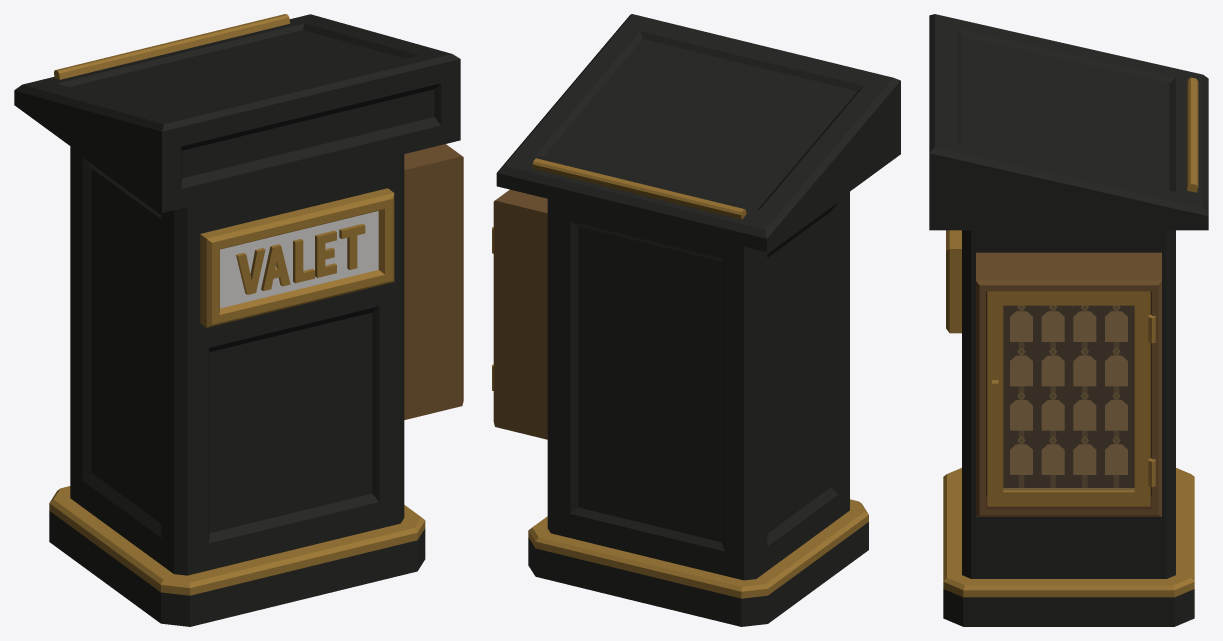
File: valet-key-podium-508ae6.glb
The picture shows the model from 3 angles, left to right: view 1: azimuth 30°, elevation 25°; view 2: azimuth 150°, elevation 25°; view 3: azimuth 270°, elevation 25°; orthographic projection. The views are drawn at different scales.
Parts seen in each view (by area): view 1: podium; view 2: podium; view 3: podium, cabinet-door-glass, cabinet-door-frame, key-tag-mesh.
Part boxes in pixels (x1=…): podium: x1=14, y1=14, x2=463, y2=626; podium: x1=492, y1=14, x2=900, y2=626; podium: x1=929, y1=14, x2=1208, y2=626; cabinet-door-glass: x1=1003, y1=306, x2=1134, y2=489; cabinet-door-frame: x1=987, y1=291, x2=1150, y2=506; key-tag-mesh: x1=1073, y1=348, x2=1096, y2=386.
Size of the model in its own units: 0.782 by 1.15 by 0.6.
